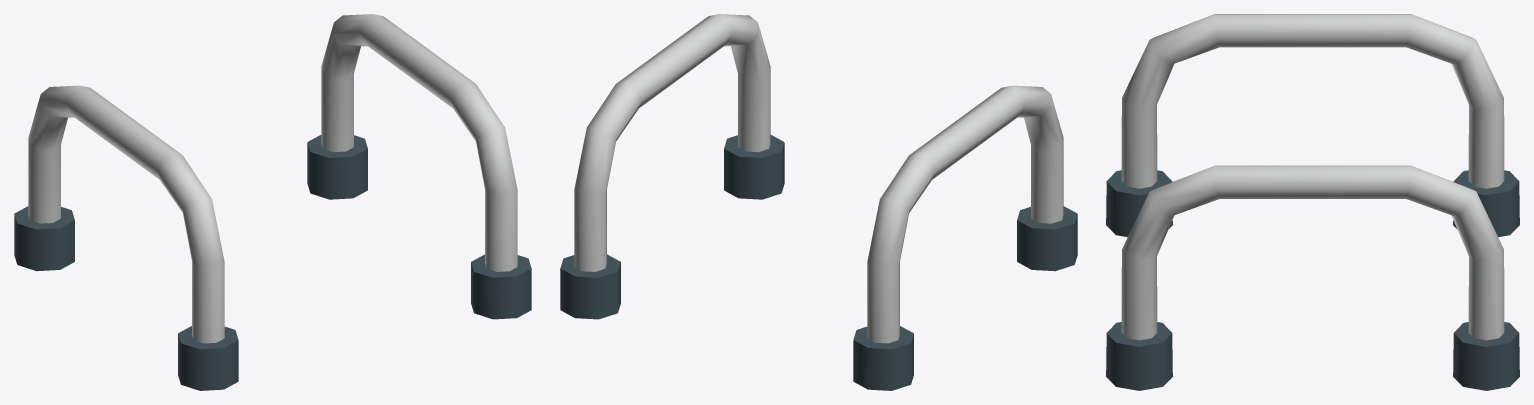
File: Ladder_handle_001.fbx
3 views of the same model, side by side, from view 1: azimuth 30°, elevation 25°; view 2: azimuth 150°, elevation 25°; view 3: azimuth 270°, elevation 25° (orthographic). The views are drawn at different scales.
Parts seen in each view (by area): view 1: Ladder_handle_001; view 2: Ladder_handle_001; view 3: Ladder_handle_001.
Part boxes in pixels (left/top/right/bottom): Ladder_handle_001: left=14, top=14, right=531, bottom=390; Ladder_handle_001: left=560, top=14, right=1077, bottom=390; Ladder_handle_001: left=1106, top=14, right=1519, bottom=390.
Bounding box in the file's own units: 119 × 115 × 64.72.
